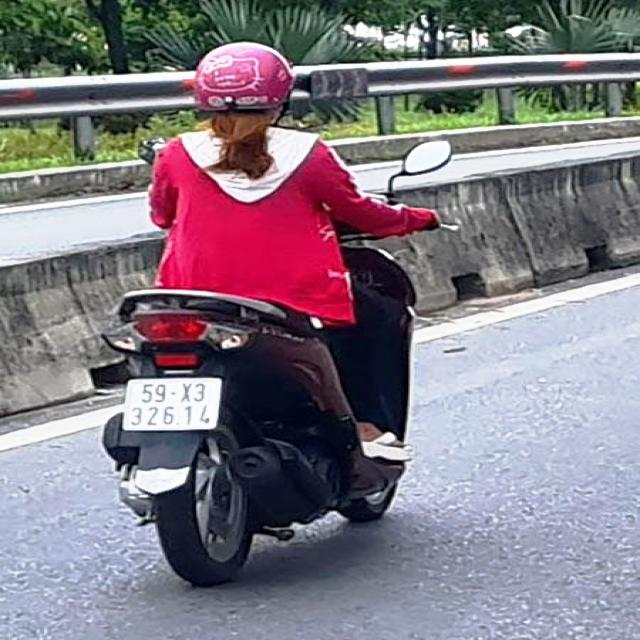license_plate: (124, 379, 224, 432)
